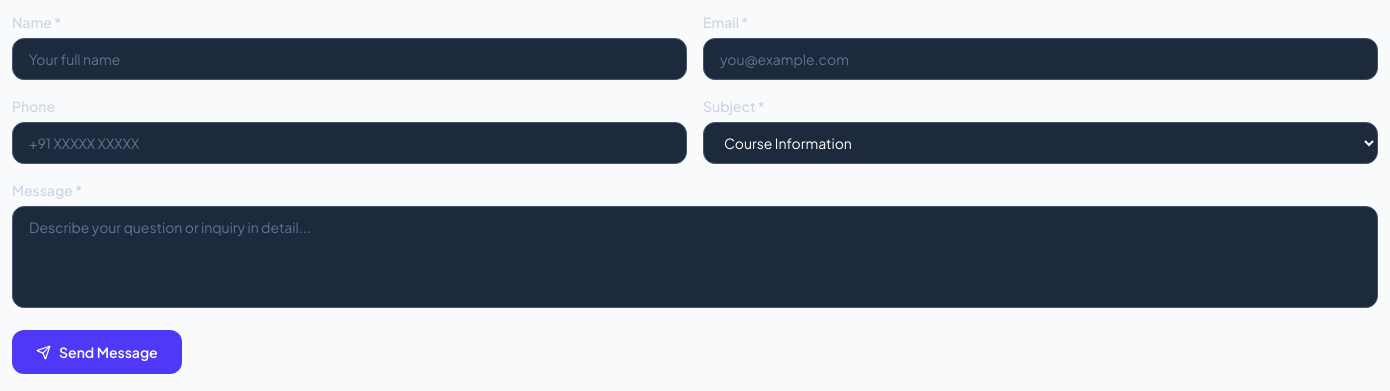
Test: EnquiryForm › shows "Sending..." on submit button while request is in-flight
In the field with placeholder "Your full name": (350, 59) [12, 38, 687, 80], type "Bob"
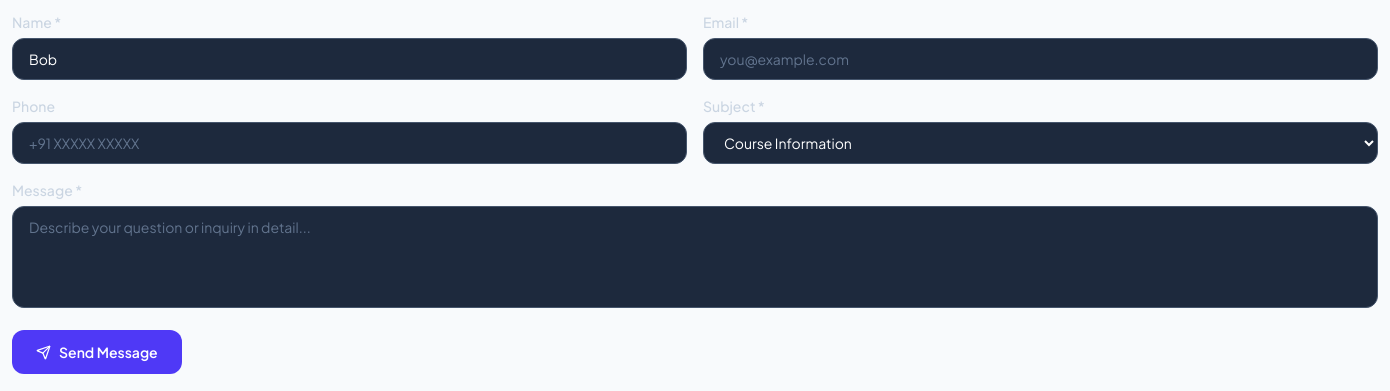
In the field with placeholder "you@example.com": (1040, 59) [703, 38, 1378, 80], type "bob@test.com"
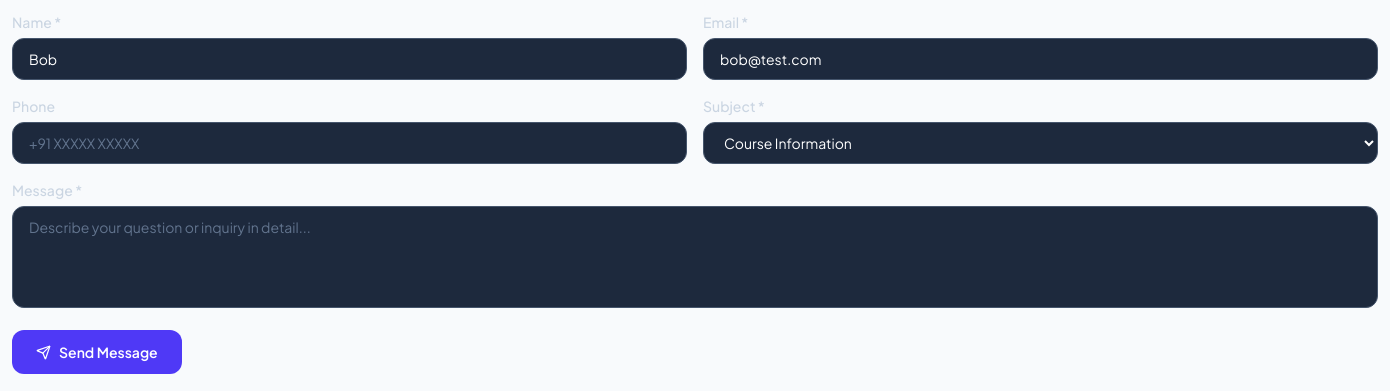
In the text box with placeholder "Describe your question or inquiry in detail...": (695, 257) [12, 206, 1378, 308], type "What courses do you offer here?"
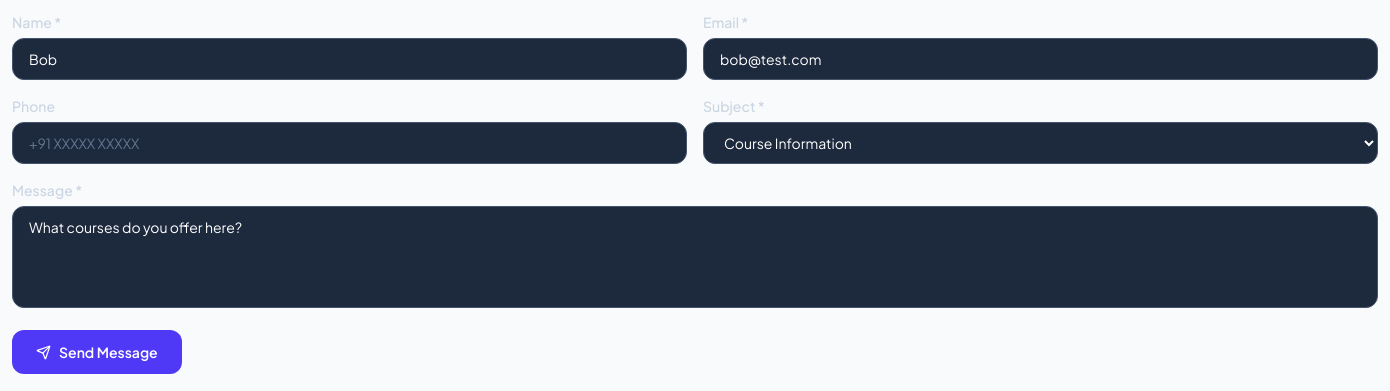
Click the button "Send Message": (97, 352) [12, 330, 182, 374]
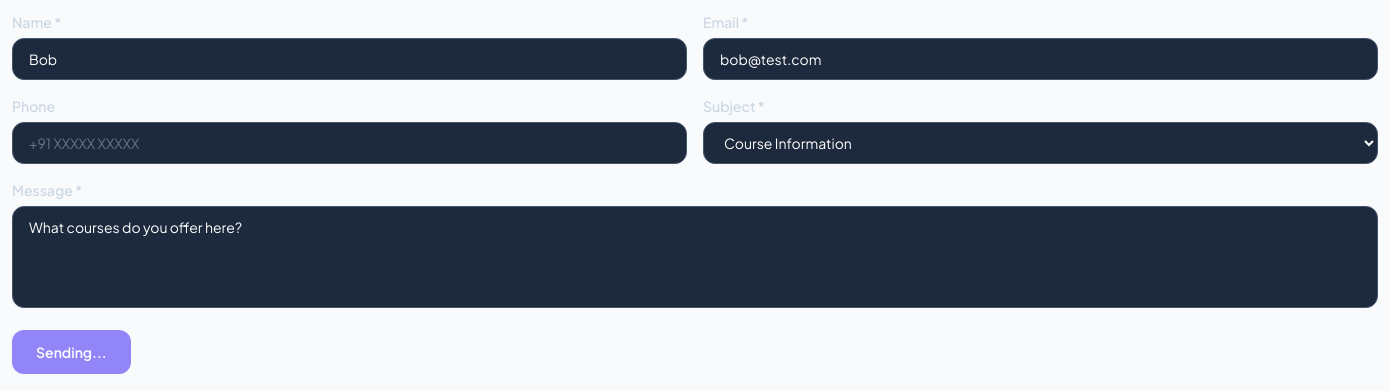
Expected: the button "Sending..." is shown, [12, 330, 131, 374]
